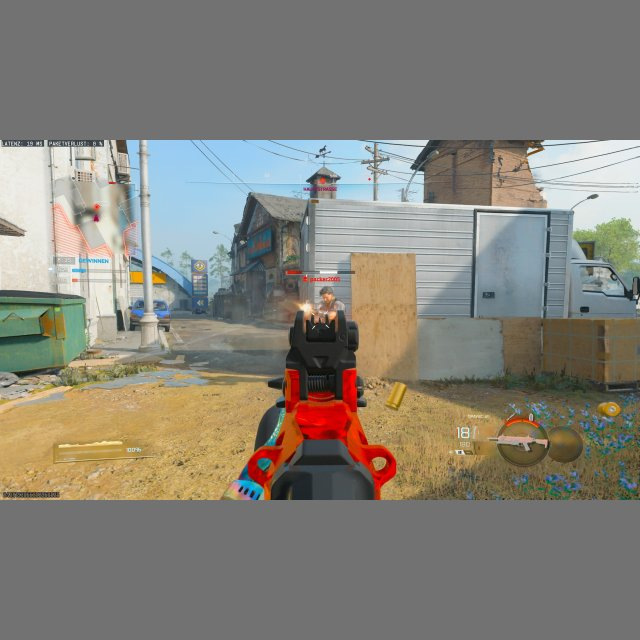head: (319, 286, 333, 301)
player: (316, 286, 344, 322)
